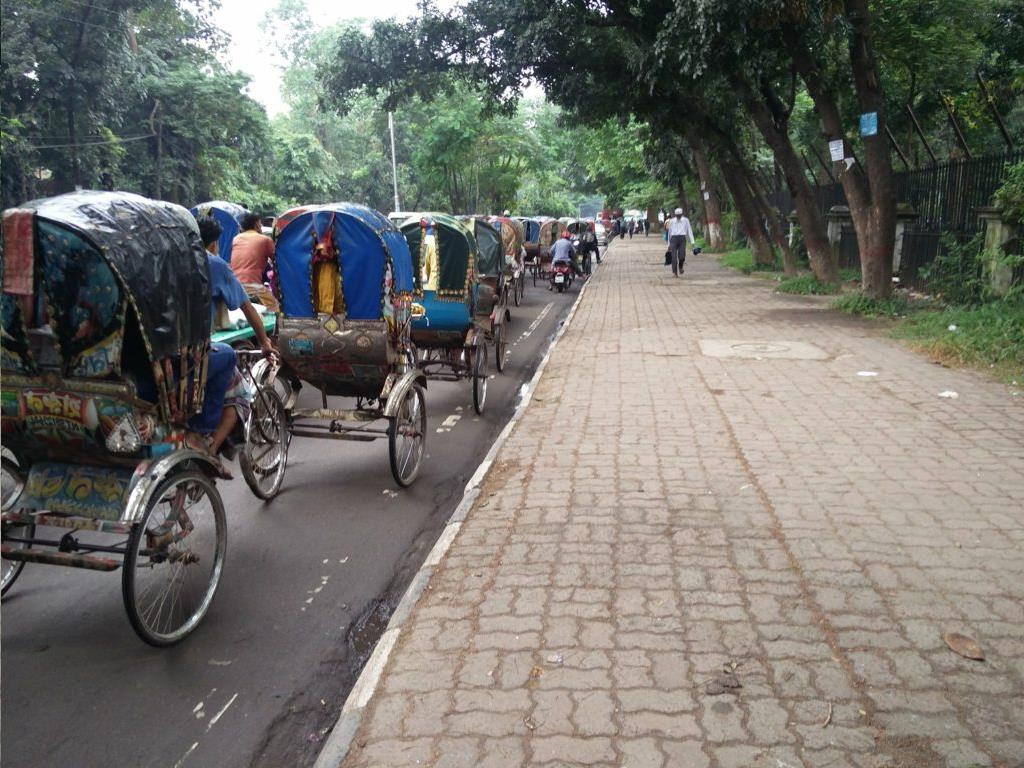Rickshaw: (8, 190, 282, 637), (273, 211, 427, 490), (392, 210, 484, 423), (191, 189, 251, 278), (538, 212, 570, 288), (518, 217, 536, 277)
